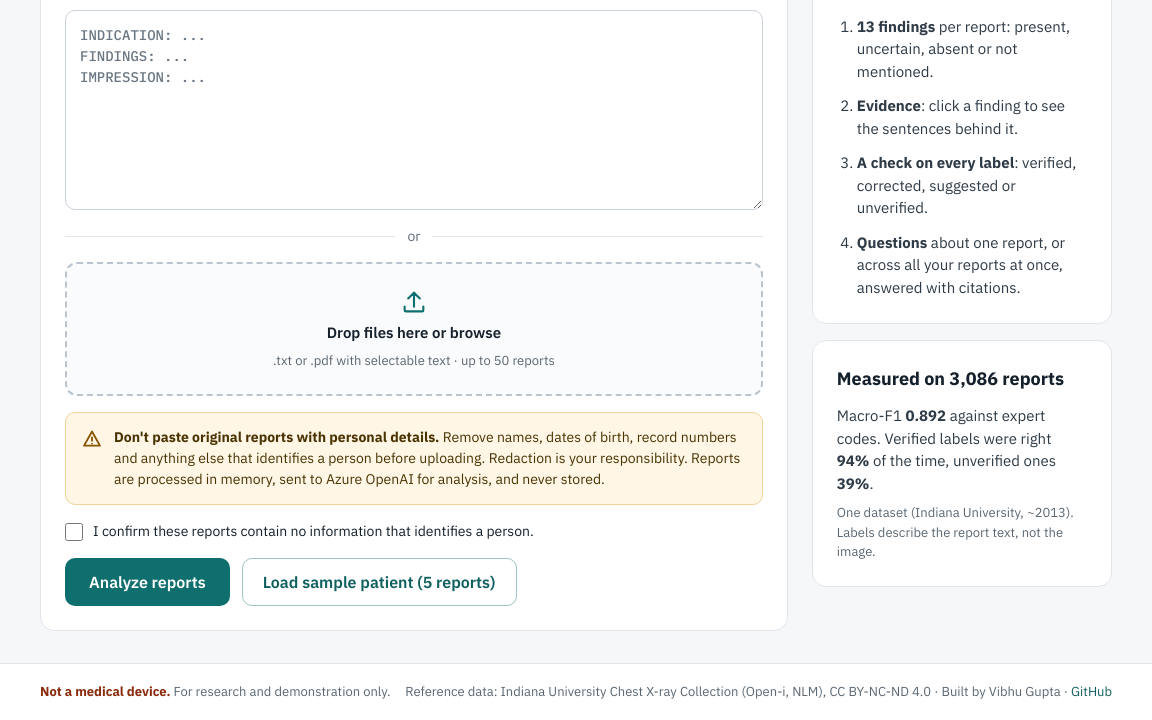
Test case: upload needs content and the confirmation; mock mode shows an error for own reports
(page scrolled)
Click the button "Analyze reports": [147, 582] box [65, 558, 230, 606]
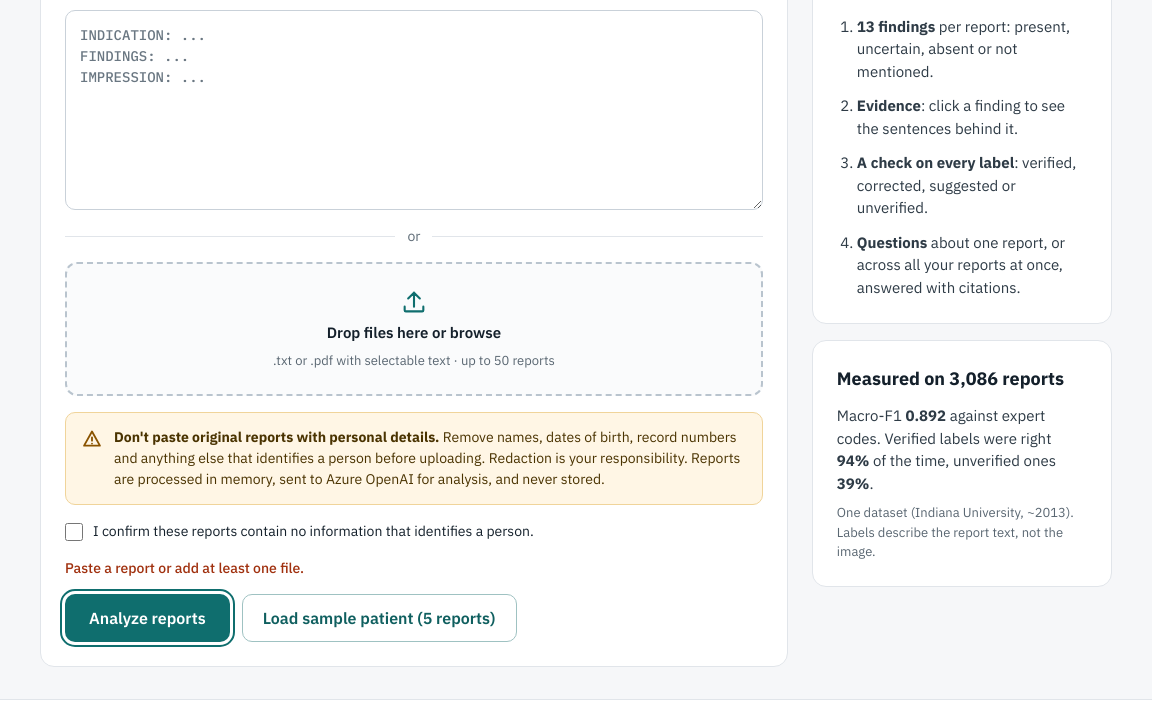
Check: the message reads "Paste a report or add at least one file.", box [65, 559, 304, 577]
In the text box labelled "Paste a report": [414, 110] box [65, 10, 763, 210], type "FINDINGS: No pneumothorax."
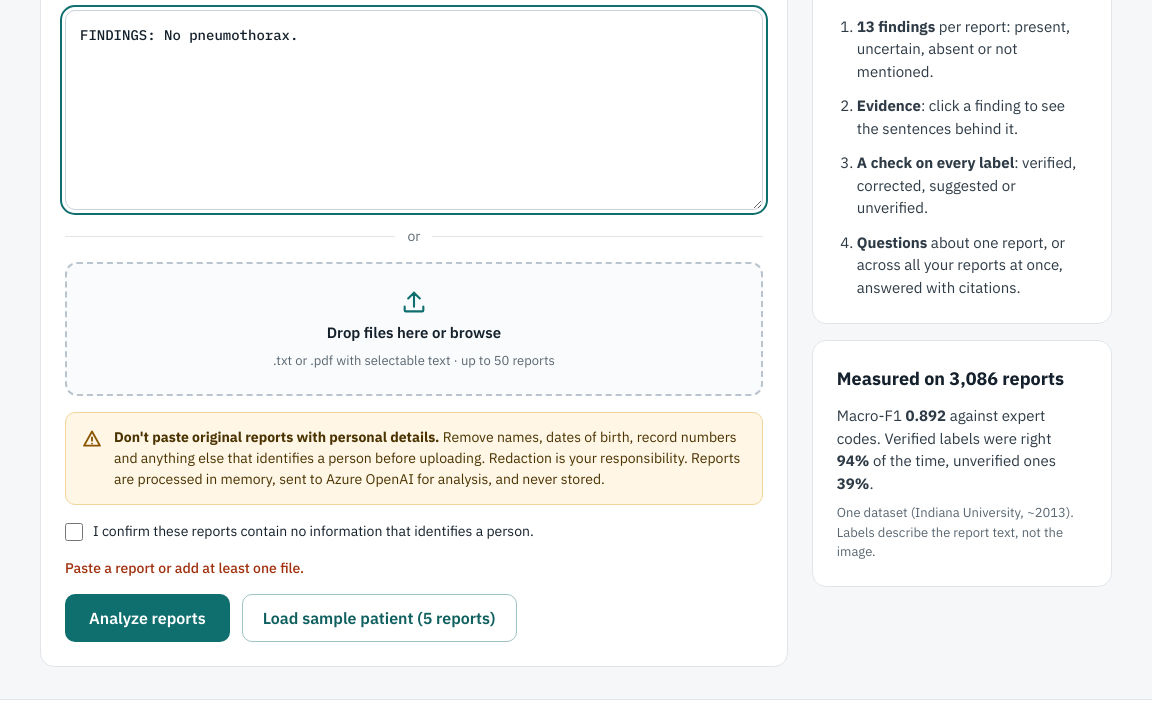
Click the button "Analyze reports": [147, 618] box [65, 594, 230, 642]
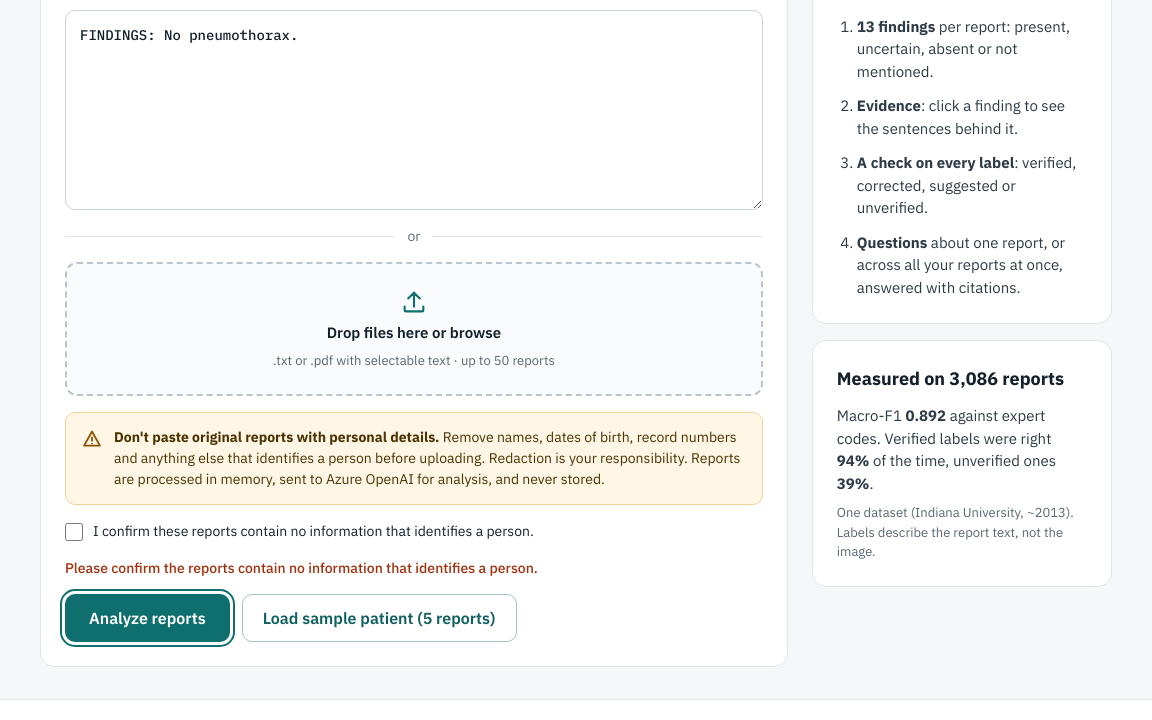
Check: the message shows "Please confirm", box [65, 559, 538, 577]
Click the checkbox labelled "I confirm": [74, 532] box [65, 523, 83, 541]
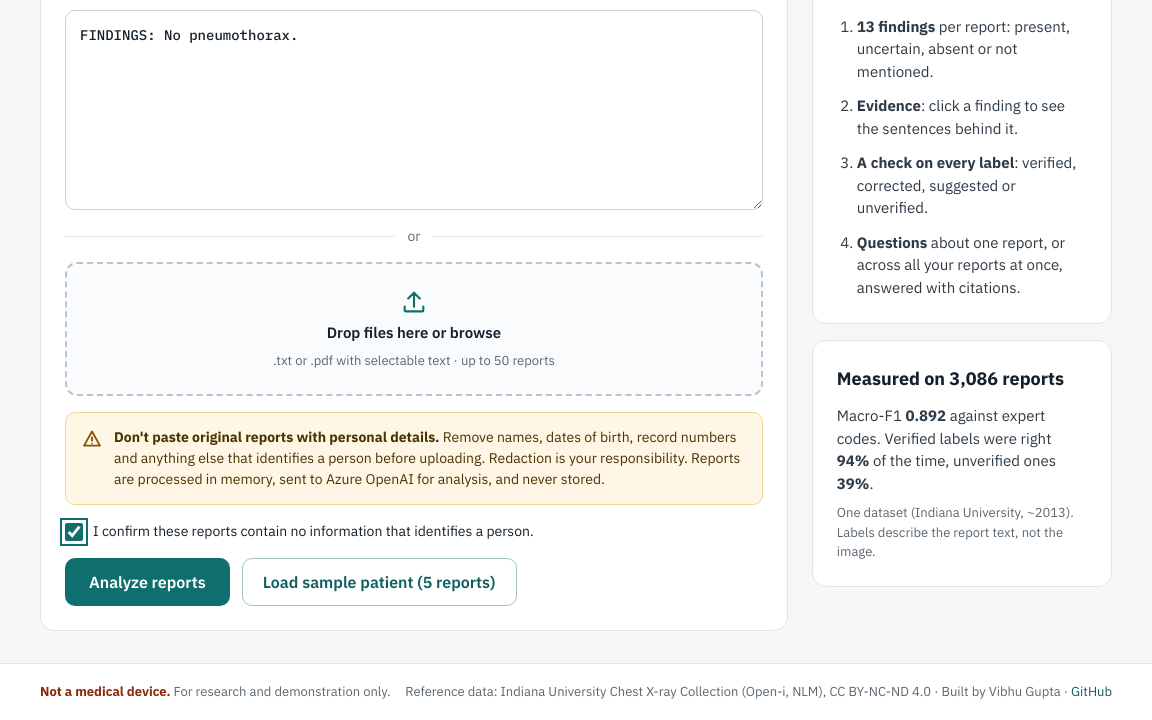
Click the button "Analyze reports": [147, 582] box [65, 558, 230, 606]
(page scrolled)
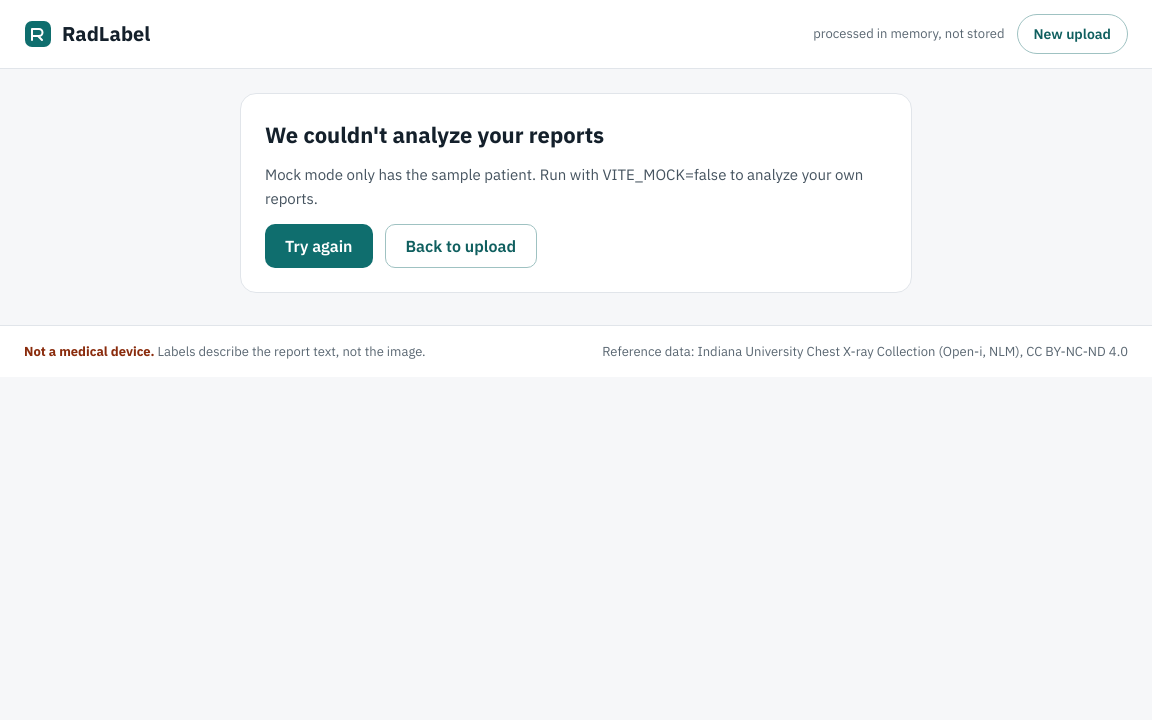
Check: the heading reads "We couldn't analyze your reports", box [265, 120, 604, 149]
Check: the button "Try again" is shown, box [265, 224, 372, 268]
